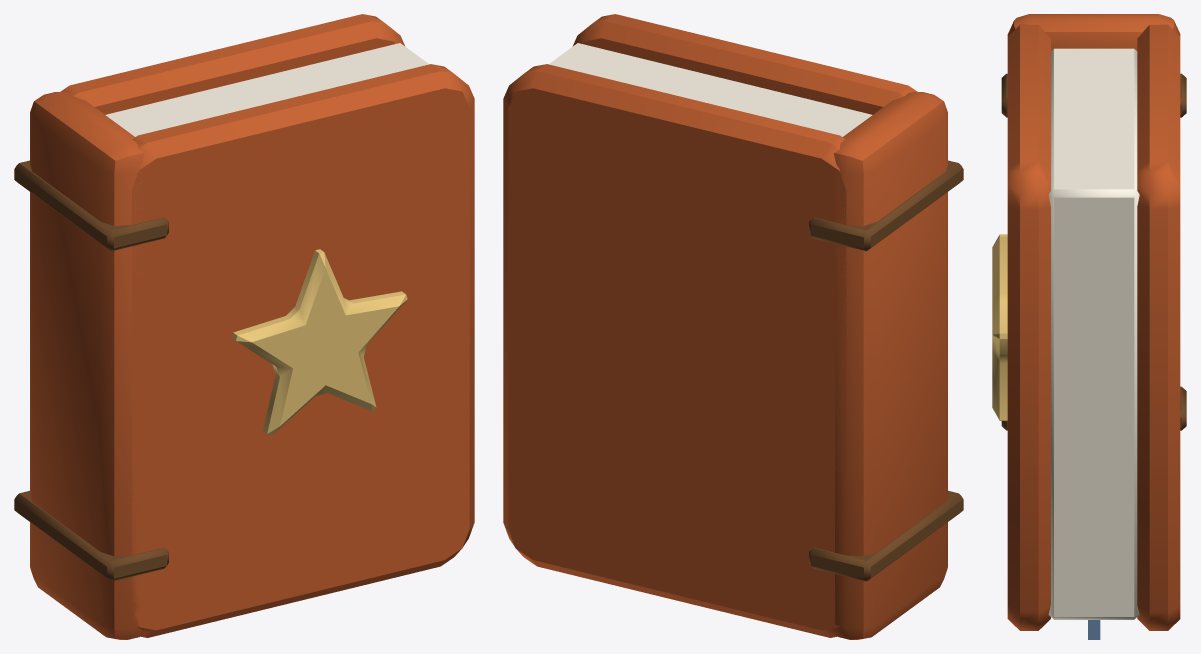
Rendered from ui_notebook.glb.
3 views of the same model, side by side, from view 1: azimuth 30°, elevation 25°; view 2: azimuth 150°, elevation 25°; view 3: azimuth 270°, elevation 25° (orthographic). The views are drawn at different scales.
Parts seen in each view (by area): view 1: ui_notebook; view 2: ui_notebook; view 3: ui_notebook.
Part boxes in pixels (box(x1,y1,x2,y2)): ui_notebook: box(14, 14, 474, 639); ui_notebook: box(503, 14, 963, 639); ui_notebook: box(992, 14, 1186, 639).
Size of the model in its own units: 0.665 by 0.89 by 0.315.
Materials: 1 (1 with a texture image).
